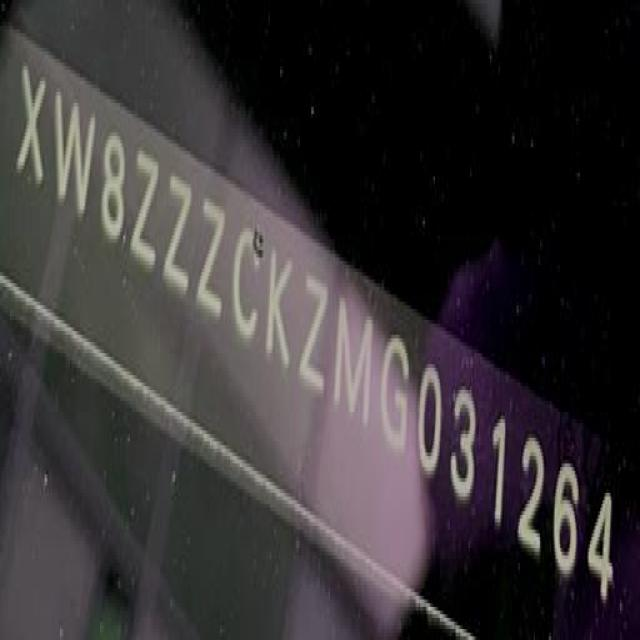0: (417, 367, 443, 486)
1: (492, 408, 509, 534)
2: (517, 436, 544, 556)
3: (449, 388, 476, 502)
4: (586, 484, 615, 606)
6: (551, 460, 579, 585)
8: (99, 123, 129, 247)
C: (232, 223, 264, 342)
G: (380, 326, 408, 458)
K: (263, 239, 294, 374)
M: (334, 298, 374, 434)
W: (50, 91, 99, 232)
X: (16, 60, 48, 195)
Z: (195, 189, 227, 330), (161, 174, 194, 302), (297, 273, 329, 396), (131, 148, 162, 273)
